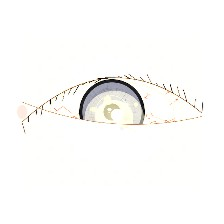corneal_ulcer: (83, 93, 145, 142)
